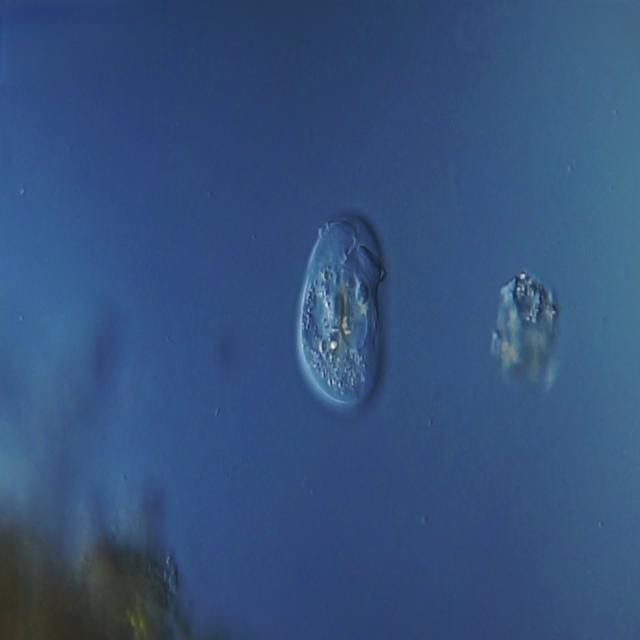Amoeba: (296, 218, 386, 412), (490, 270, 560, 396)
